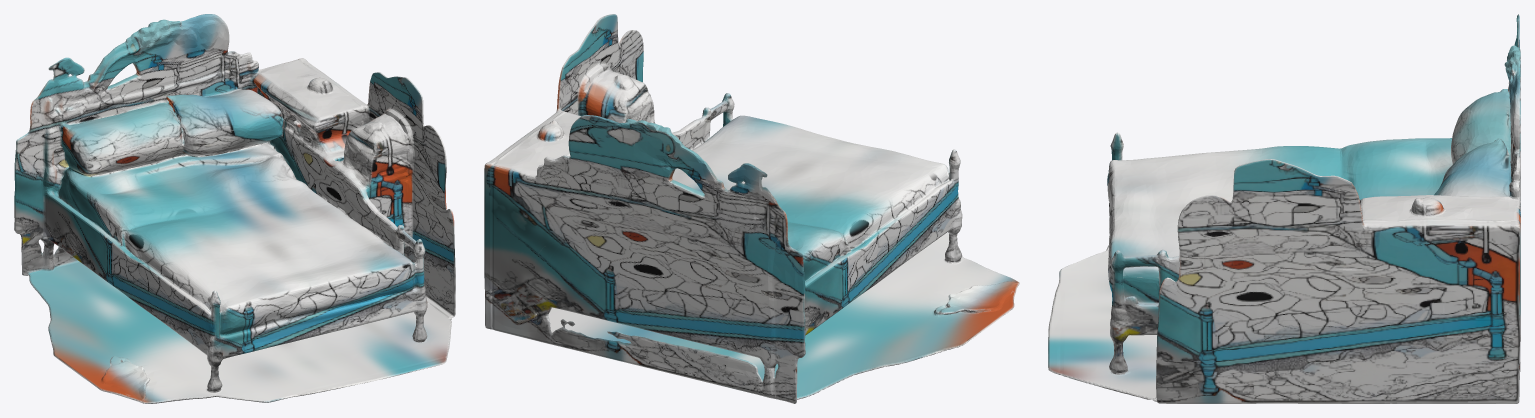
File: bed.glb
3 renders of one model, left to right at view 1: azimuth 30°, elevation 25°; view 2: azimuth 150°, elevation 25°; view 3: azimuth 270°, elevation 25°, orthographic. The views are drawn at different scales.
Parts seen in each view (by area): view 1: bed; view 2: bed; view 3: bed.
Boxes of the visible parts, x1,y1,x2,y2 form: bed: [14, 14, 455, 403]; bed: [484, 14, 1019, 403]; bed: [1048, 14, 1520, 403].
Bounding box in the file's own units: 1.31 × 0.8167 × 1.31.
1 material, 1 textured.
